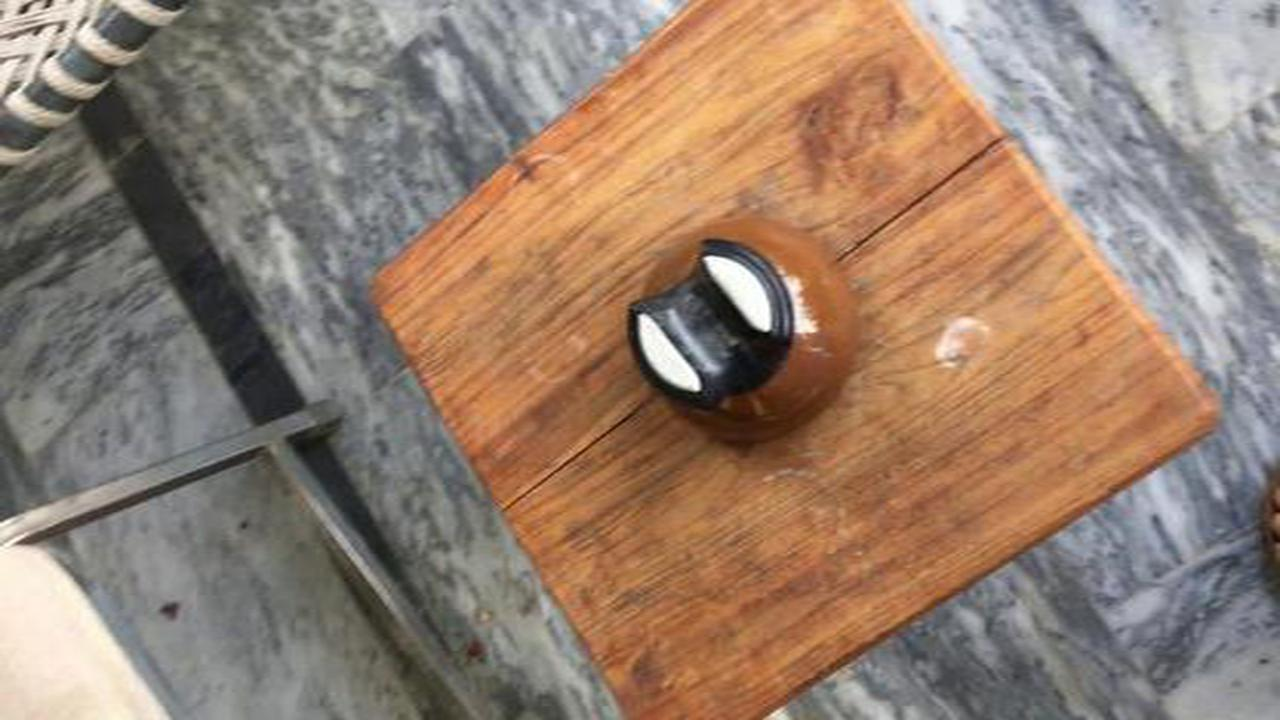insulator_pin: (604, 206, 893, 464)
